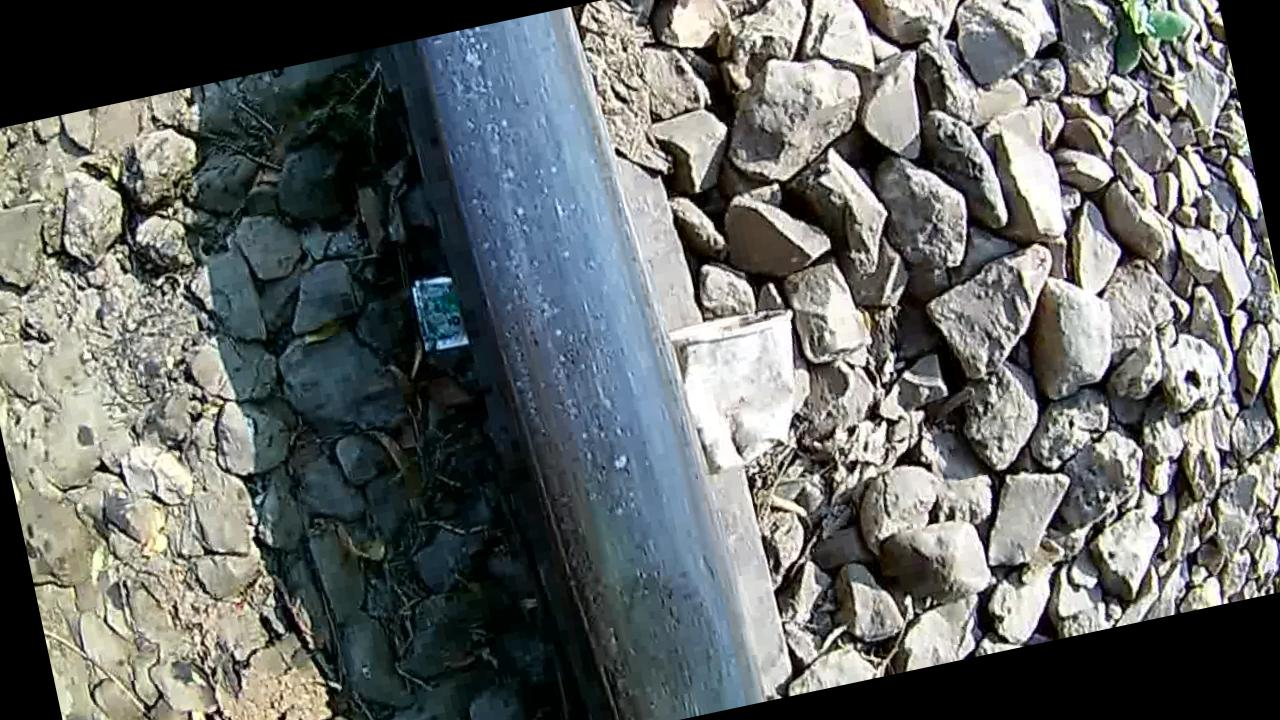bolt_missing: (564, 511, 777, 720)
